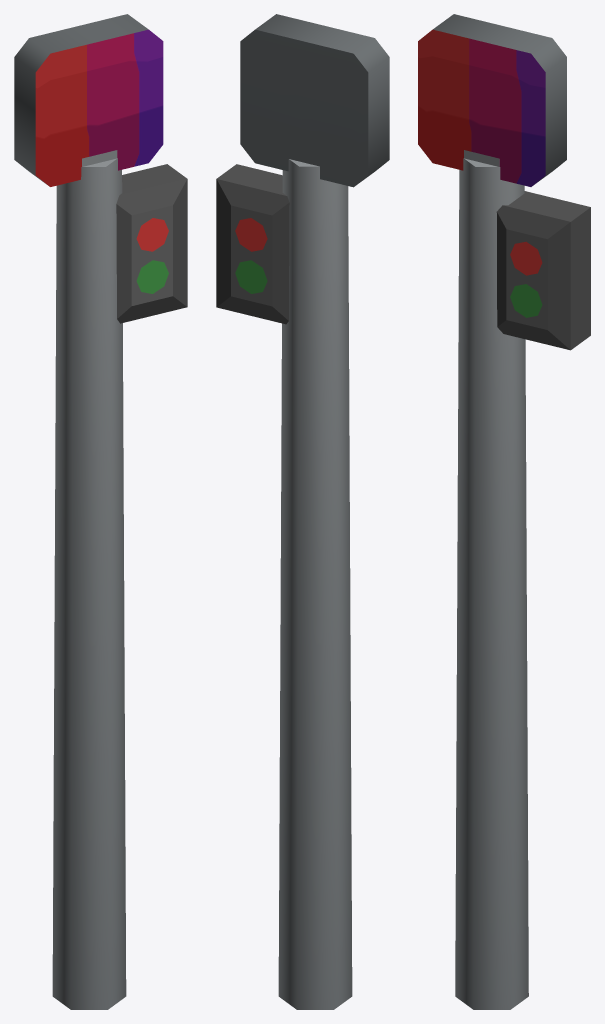
File: Walksignal.fbx
The picture shows the model from 3 angles, left to right: view 1: azimuth 30°, elevation 25°; view 2: azimuth 150°, elevation 25°; view 3: azimuth 330°, elevation 25°; orthographic projection.
Visible parts, largest first — view 1: Walksignal; view 2: Walksignal; view 3: Walksignal.
Part boxes in pixels (x1,y1,x2,y2): Walksignal: (14,14,187,1009); Walksignal: (216,14,389,1009); Walksignal: (418,14,590,1009).
Bounding box in the file's own units: 0.157 × 0.9479 × 0.0657.
